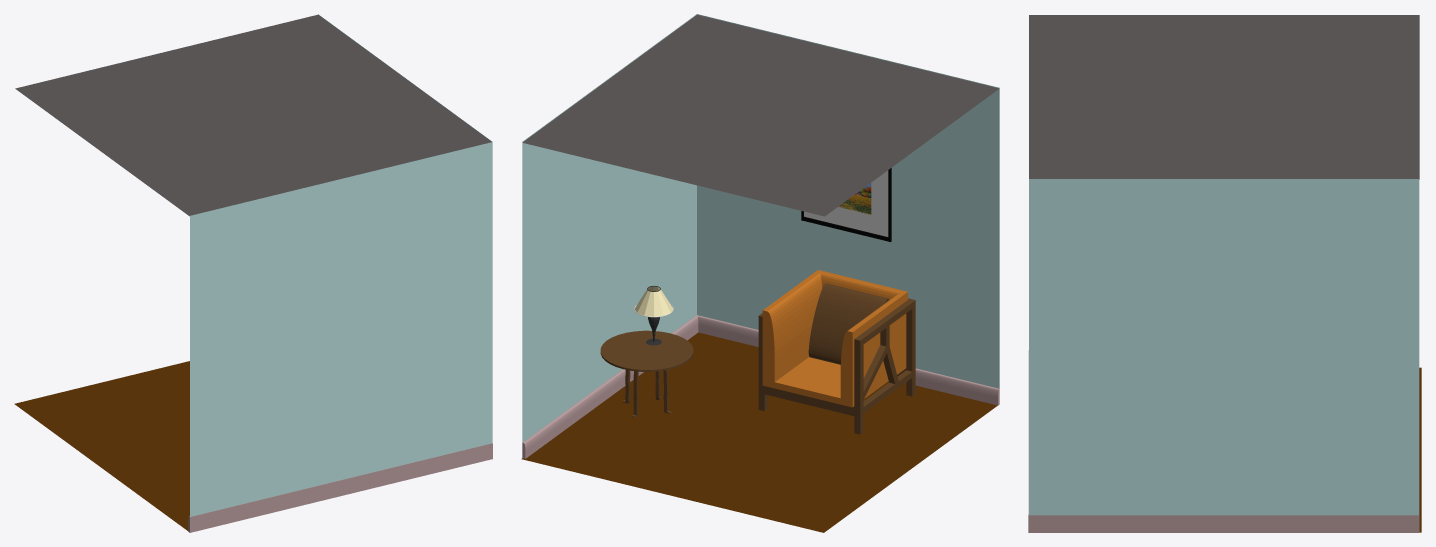
3 renders of one model, left to right at view 1: azimuth 30°, elevation 25°; view 2: azimuth 150°, elevation 25°; view 3: azimuth 270°, elevation 25°, orthographic. The views are drawn at different scales.
Parts seen in each view (by area): view 1: Cube.005, Plane.005, Plane.003, Cube.007; view 2: Cube.005, Plane.005, Plane.003, Cube.014, Cube.016, Cube.011, Cylinder.001, Cube.007, Cube.009, Plane.002, Cube, Plane.001 (+2 smaller); view 3: Cube.005, Plane.005, Cube.009, Plane.003.
Boxes of the visible parts, x1=… form: Cube.005: x1=190, y1=14, x2=492, y2=516; Plane.005: x1=15, y1=14, x2=491, y2=216; Plane.003: x1=14, y1=361, x2=189, y2=530; Cube.007: x1=188, y1=443, x2=491, y2=532; Cube.005: x1=522, y1=14, x2=999, y2=442; Plane.005: x1=522, y1=15, x2=998, y2=216; Plane.003: x1=521, y1=332, x2=997, y2=532; Cube.014: x1=762, y1=270, x2=907, y2=407; Cube.016: x1=758, y1=298, x2=915, y2=434; Cube.011: x1=808, y1=283, x2=888, y2=364; Cylinder.001: x1=600, y1=330, x2=693, y2=371; Cube.007: x1=697, y1=315, x2=999, y2=405; Cube.009: x1=522, y1=315, x2=698, y2=458; Plane.002: x1=804, y1=170, x2=888, y2=236; Cube: x1=622, y1=370, x2=671, y2=417; Plane.001: x1=634, y1=286, x2=673, y2=316; Cube.005: x1=1029, y1=179, x2=1419, y2=532; Plane.005: x1=1029, y1=15, x2=1419, y2=179; Cube.009: x1=1028, y1=514, x2=1418, y2=532; Plane.003: x1=1419, y1=367, x2=1421, y2=532.
Size of the model in its own units: 30 by 30.18 by 30.2.
16 materials, 1 textured.
